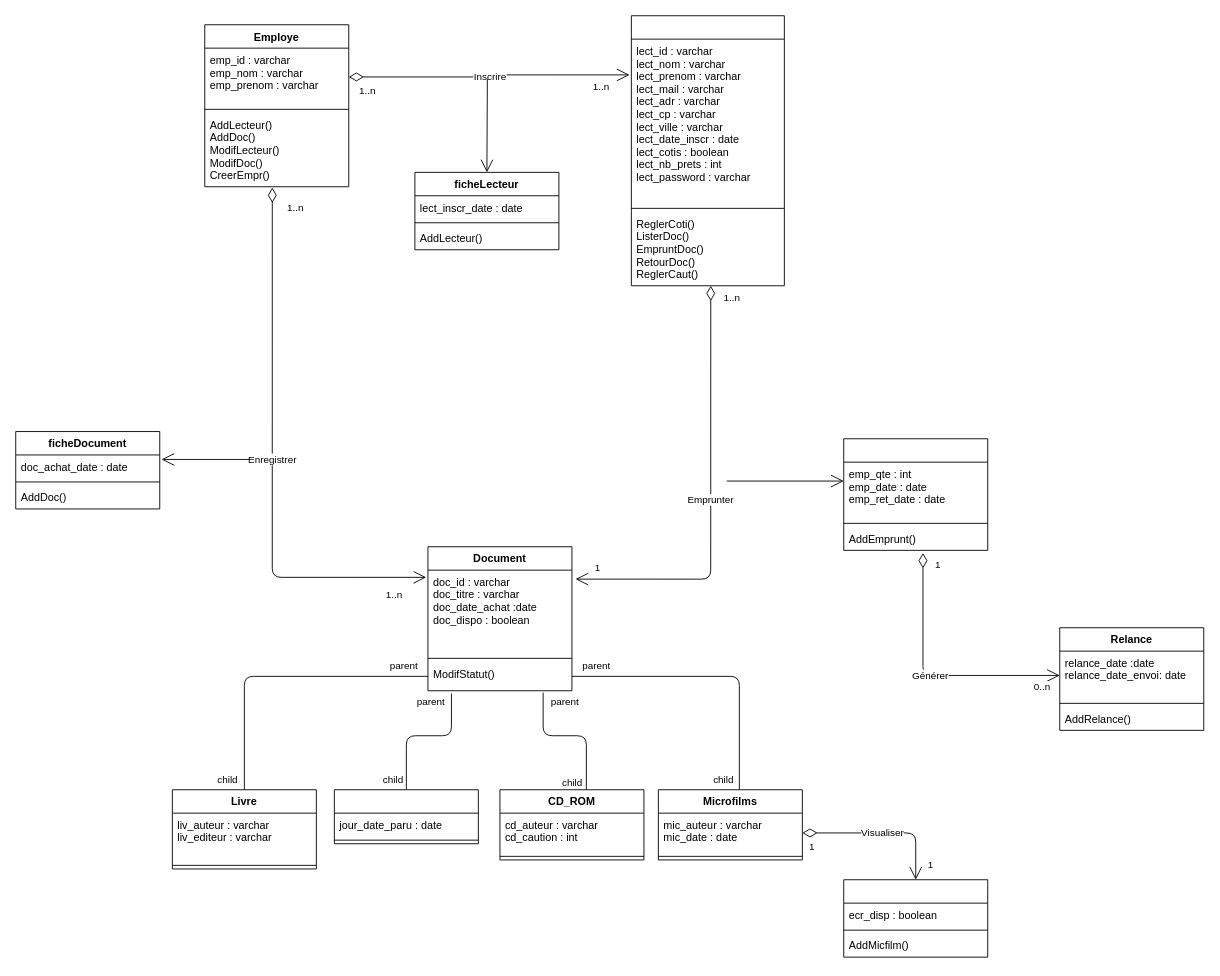
Image size: 1220x976. Some labels were removed from this diagram. The box of each missing label's shape, as (x1, y1, x2, y2) in pixels:
Ecran: (843, 879, 988, 957)
ficheEmprunt: (843, 438, 988, 550)
Journal: (333, 789, 478, 844)
Lecteur: (630, 15, 784, 286)
